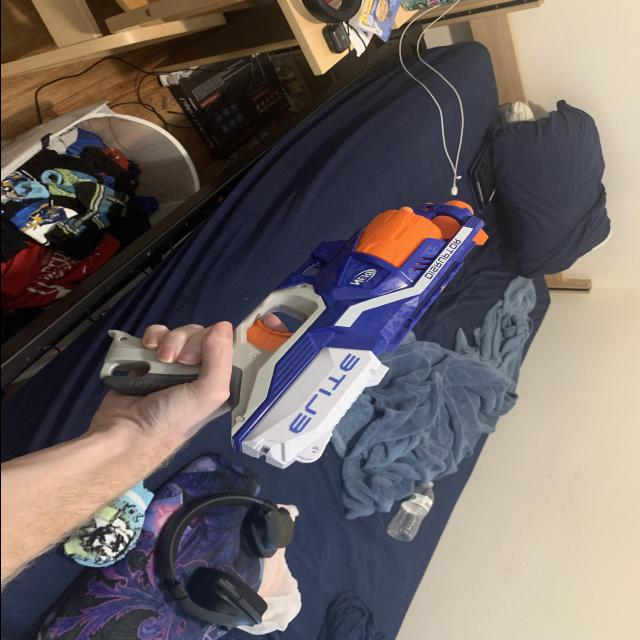nerf-maverik: (81, 176, 499, 474)
